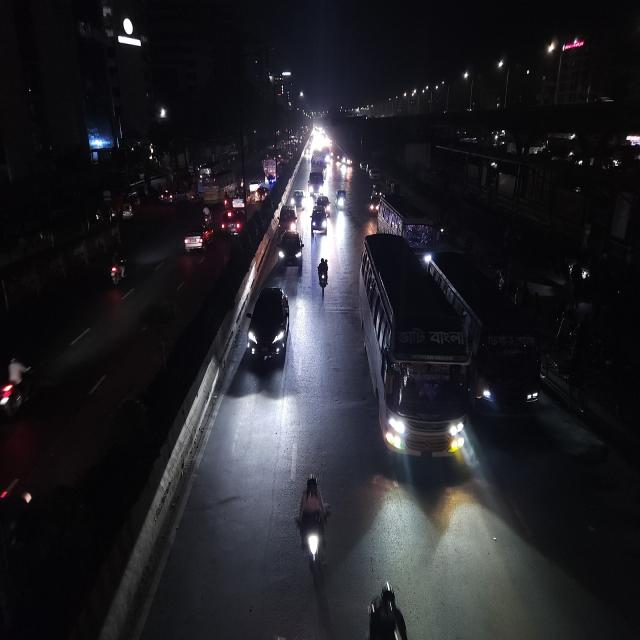bus: (359, 232, 469, 466), (429, 246, 543, 430), (377, 191, 437, 264), (200, 165, 232, 203), (308, 166, 326, 197)
car: (246, 280, 292, 374), (182, 207, 214, 257), (276, 227, 305, 274), (220, 208, 246, 239), (310, 206, 330, 240), (278, 203, 298, 234), (290, 188, 306, 213), (232, 190, 247, 213), (315, 192, 331, 213), (247, 174, 263, 194), (335, 186, 347, 212), (255, 184, 269, 204)
motorcycle: (293, 469, 333, 584), (106, 251, 129, 290), (315, 253, 331, 298)
truck: (308, 154, 326, 197), (262, 155, 278, 185)
